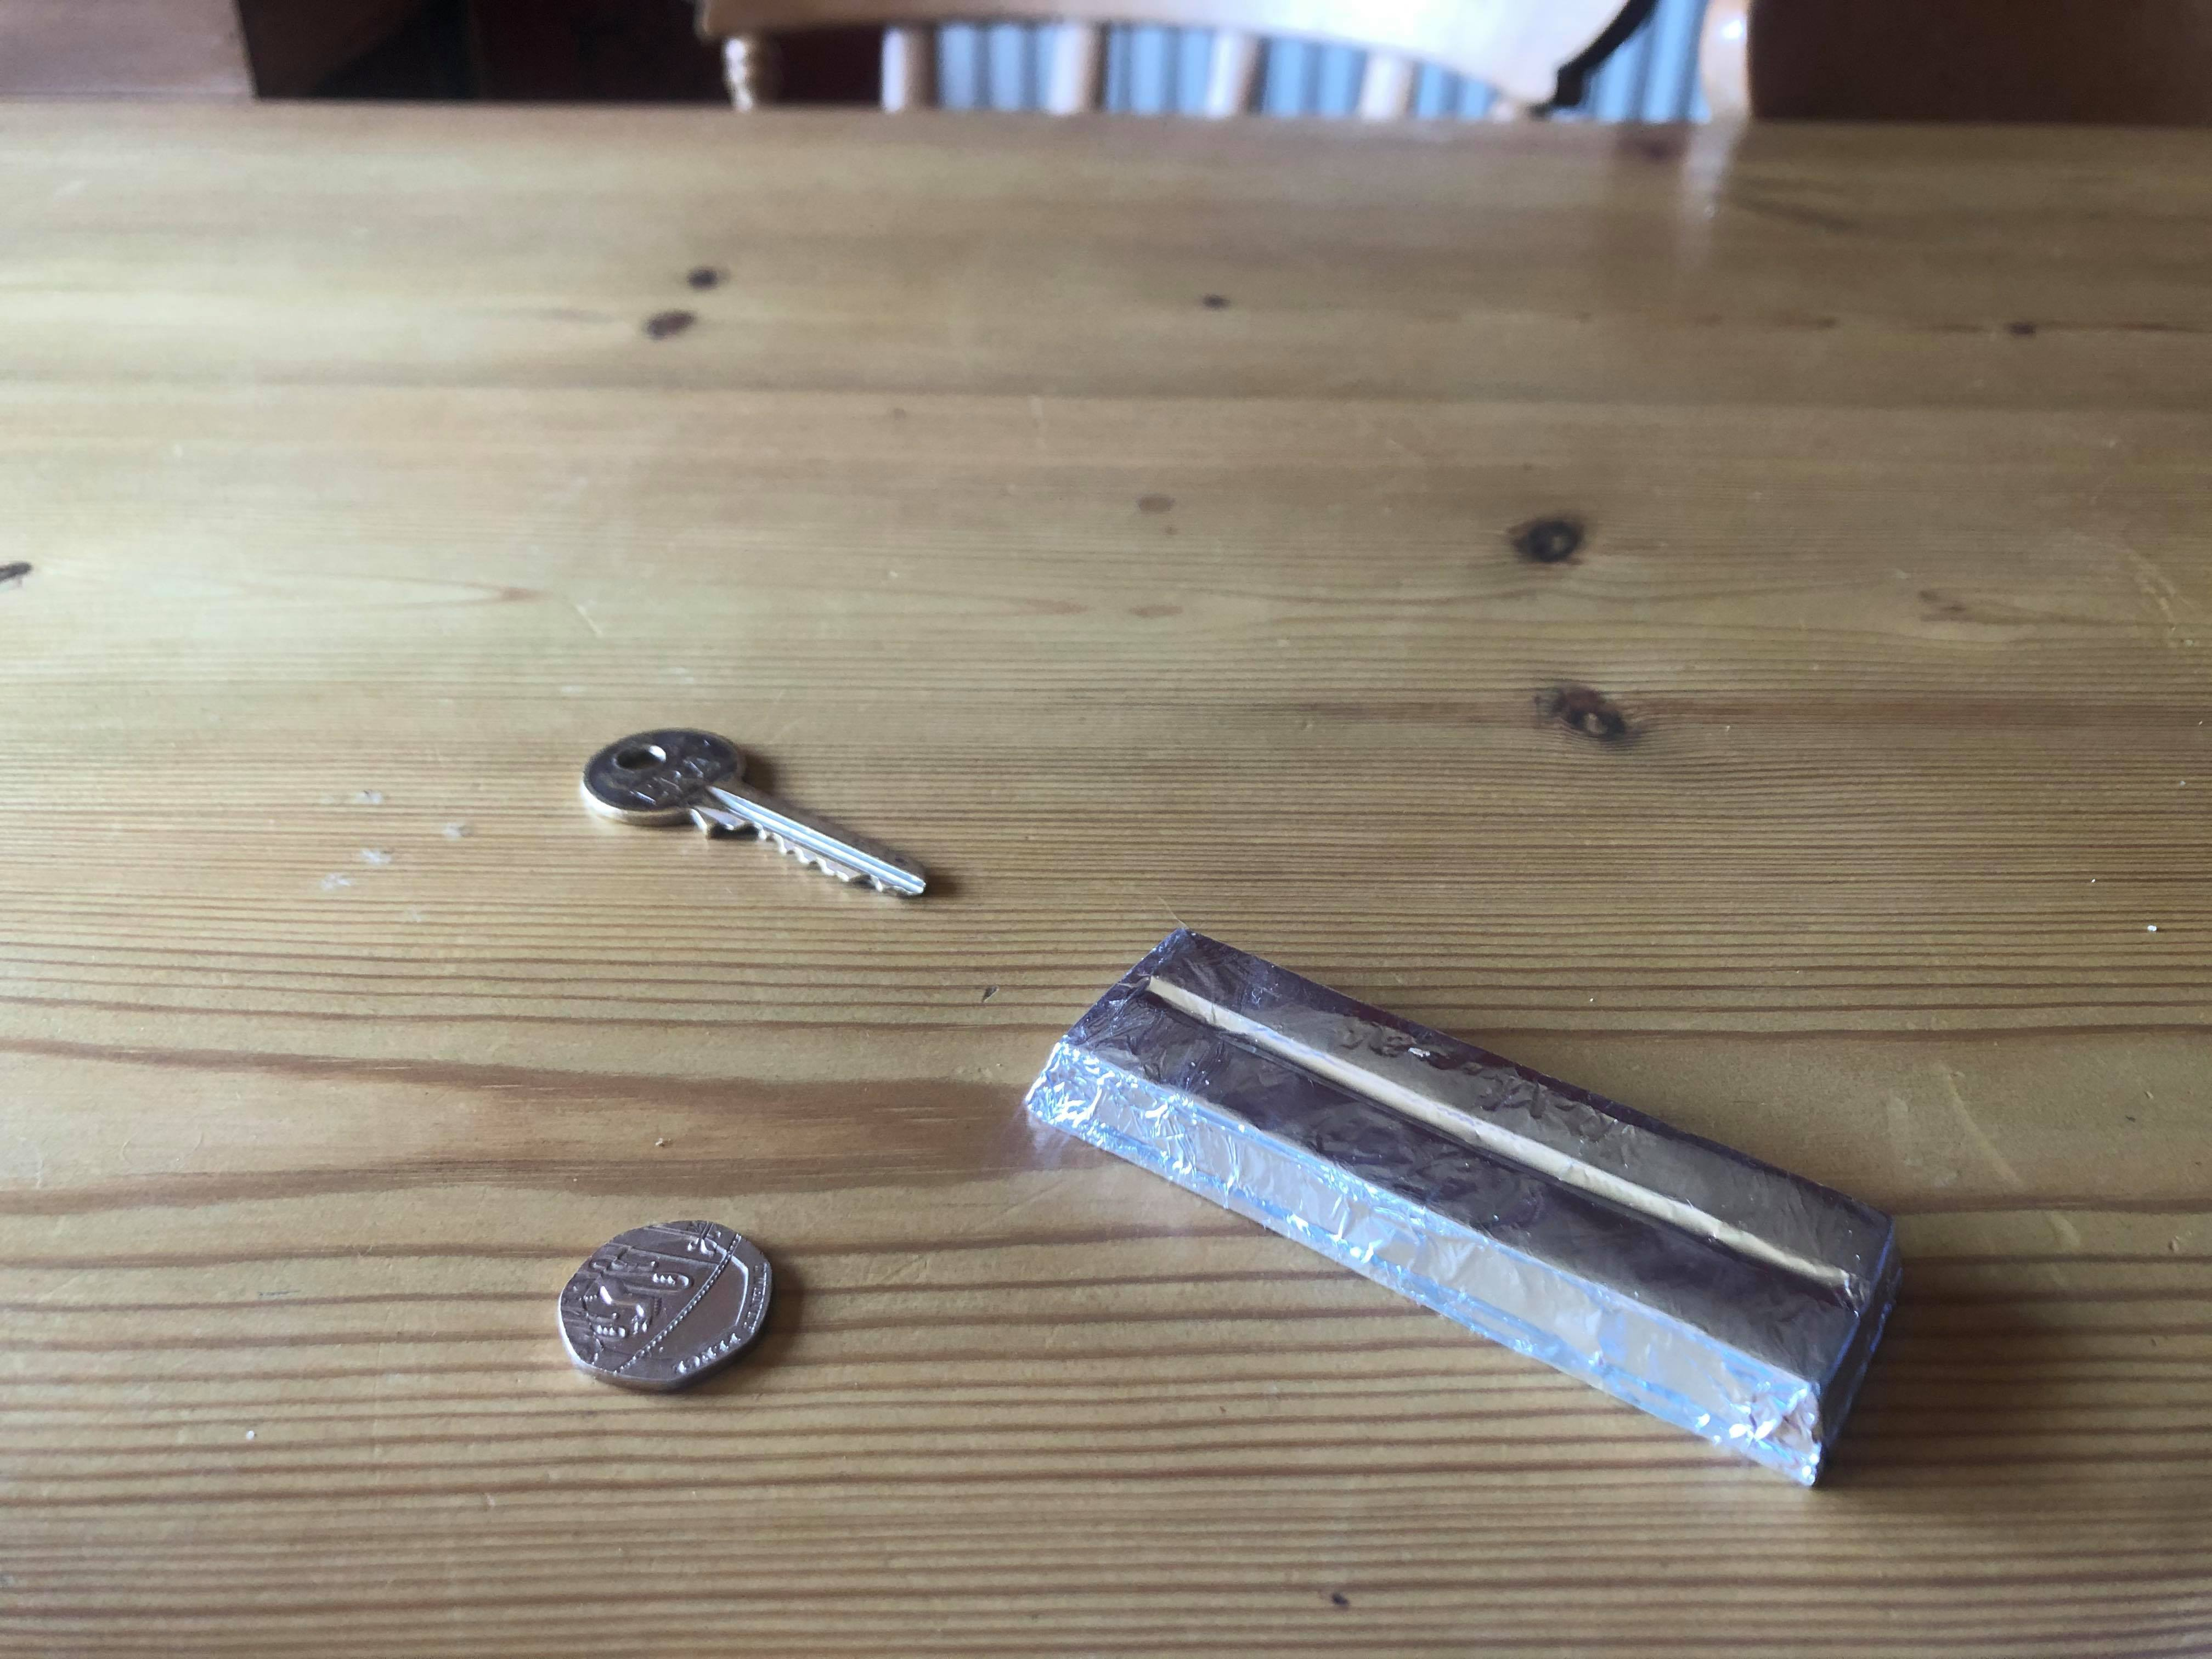Coin: (554, 1215, 782, 1396)
Foil: (1012, 924, 1911, 1495)
Key: (570, 723, 934, 913)
